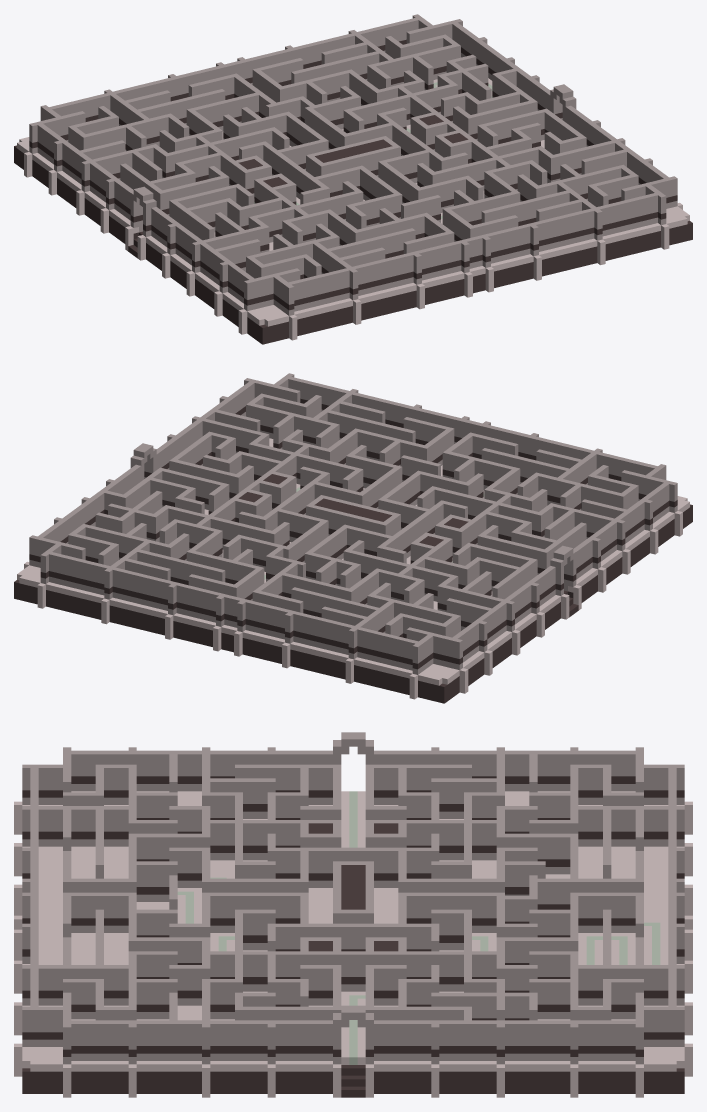
Rendered from mazemodel.fbx.
3 renders of one model, top to bottom at view 1: azimuth 30°, elevation 25°; view 2: azimuth 150°, elevation 25°; view 3: azimuth 270°, elevation 25°, orthographic. The views are drawn at different scales.
Parts seen in each view (by area): view 1: Object_2; view 2: Object_2; view 3: Object_2.
Part boxes in pixels (left/top/right/bottom): Object_2: left=14, top=14, right=692, bottom=344; Object_2: left=14, top=373, right=692, bottom=703; Object_2: left=14, top=732, right=692, bottom=1097.
Size of the model in its own units: 8300 by 1100 by 8300.
